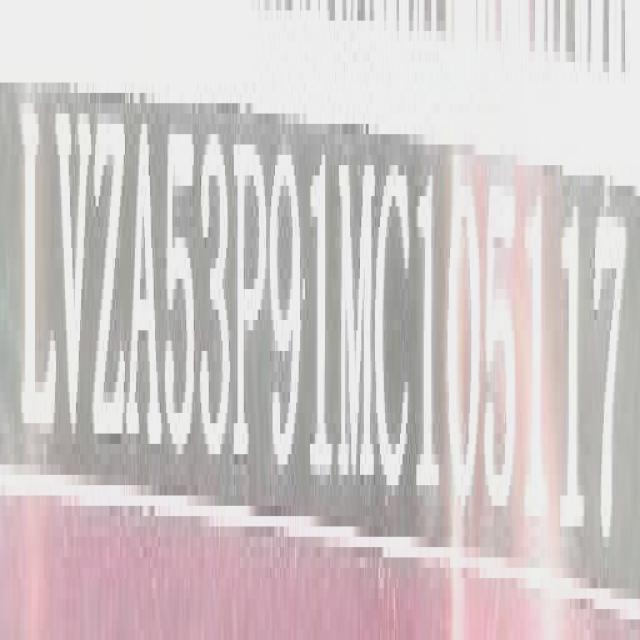0: (450, 158, 481, 520)
1: (309, 118, 336, 501), (520, 184, 549, 532), (558, 172, 583, 556), (420, 145, 440, 513)
3: (203, 115, 231, 468)
5: (488, 162, 518, 528), (167, 105, 196, 465)
7: (595, 184, 627, 564)
9: (270, 136, 302, 490)
A: (125, 103, 164, 463)
C: (378, 147, 413, 503)
L: (21, 81, 55, 449)
M: (337, 142, 375, 493)
P: (234, 111, 266, 493)
W: (56, 89, 90, 454)
Z: (96, 98, 126, 459)
